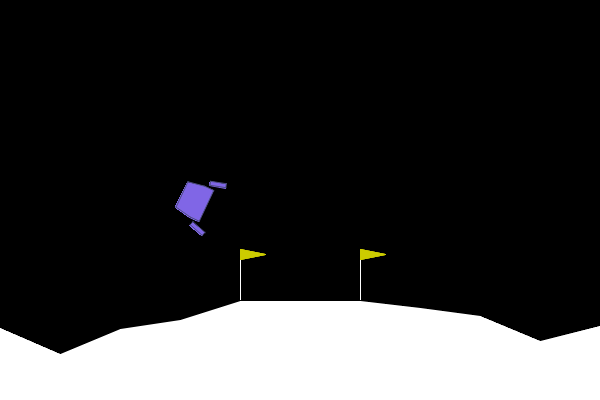lander: (167, 167, 229, 238)
